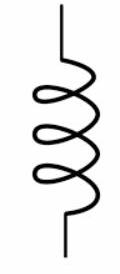inductor: (26, 47, 109, 222)
